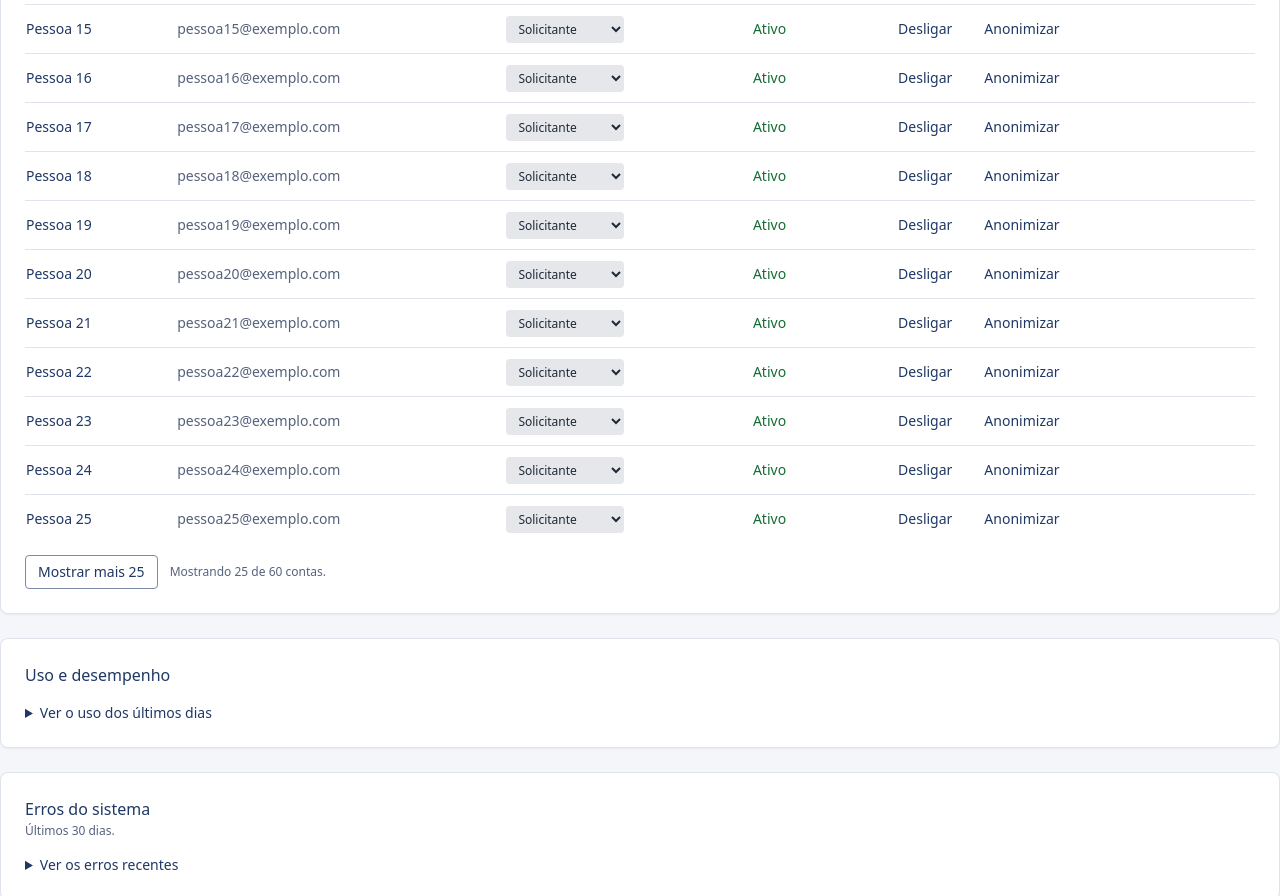
Lista longa de contas › desenha só as primeiras 25 e libera o resto sob demanda
(page scrolled)
Expected: the text "Mostrando 25 de 60 contas." is shown, [170,564,326,580]
Step 1. Click the button "Mostrar mais 25" → (91, 572), box [25,555,158,589]
(page scrolled)
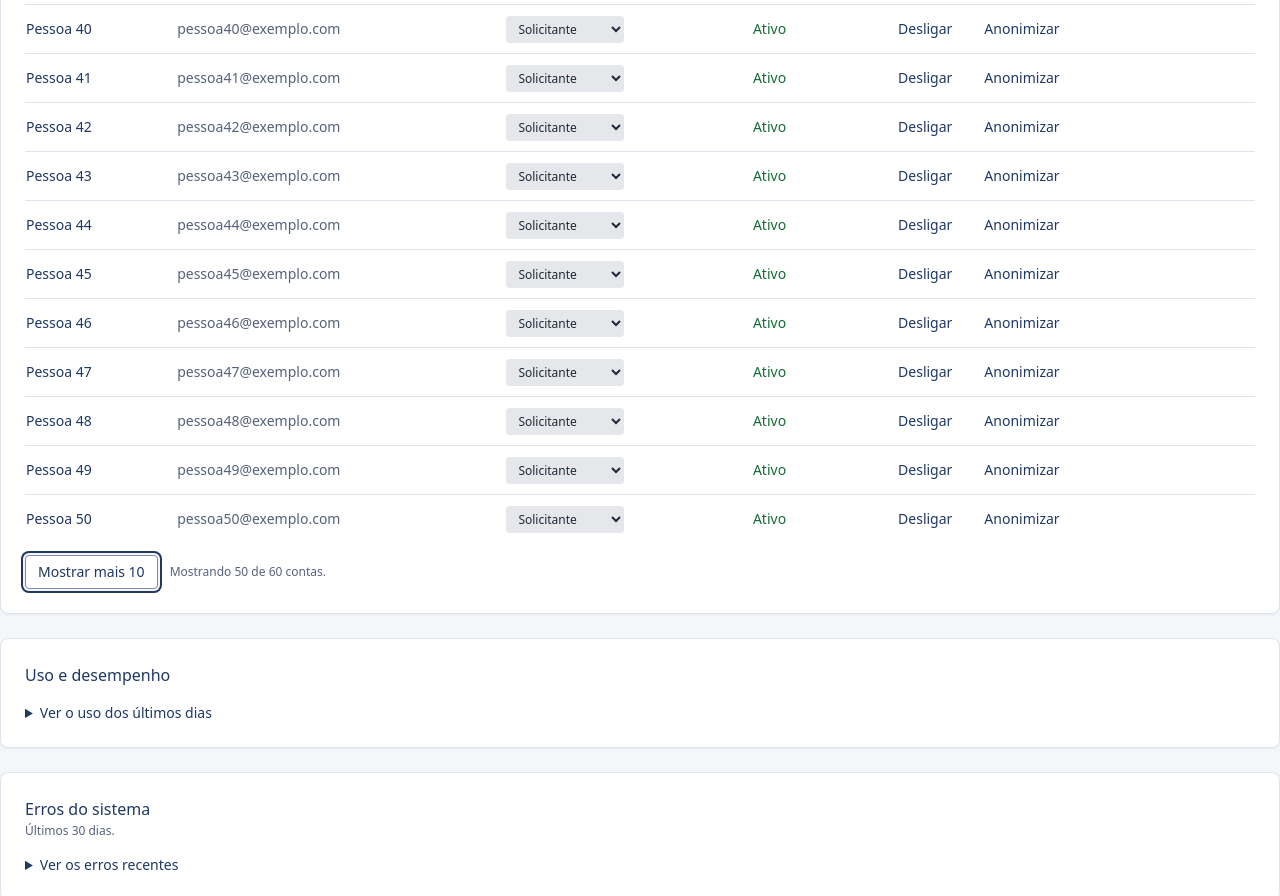
Step 2. Click the button "Mostrar mais 10" → (91, 572), box [25,555,158,589]
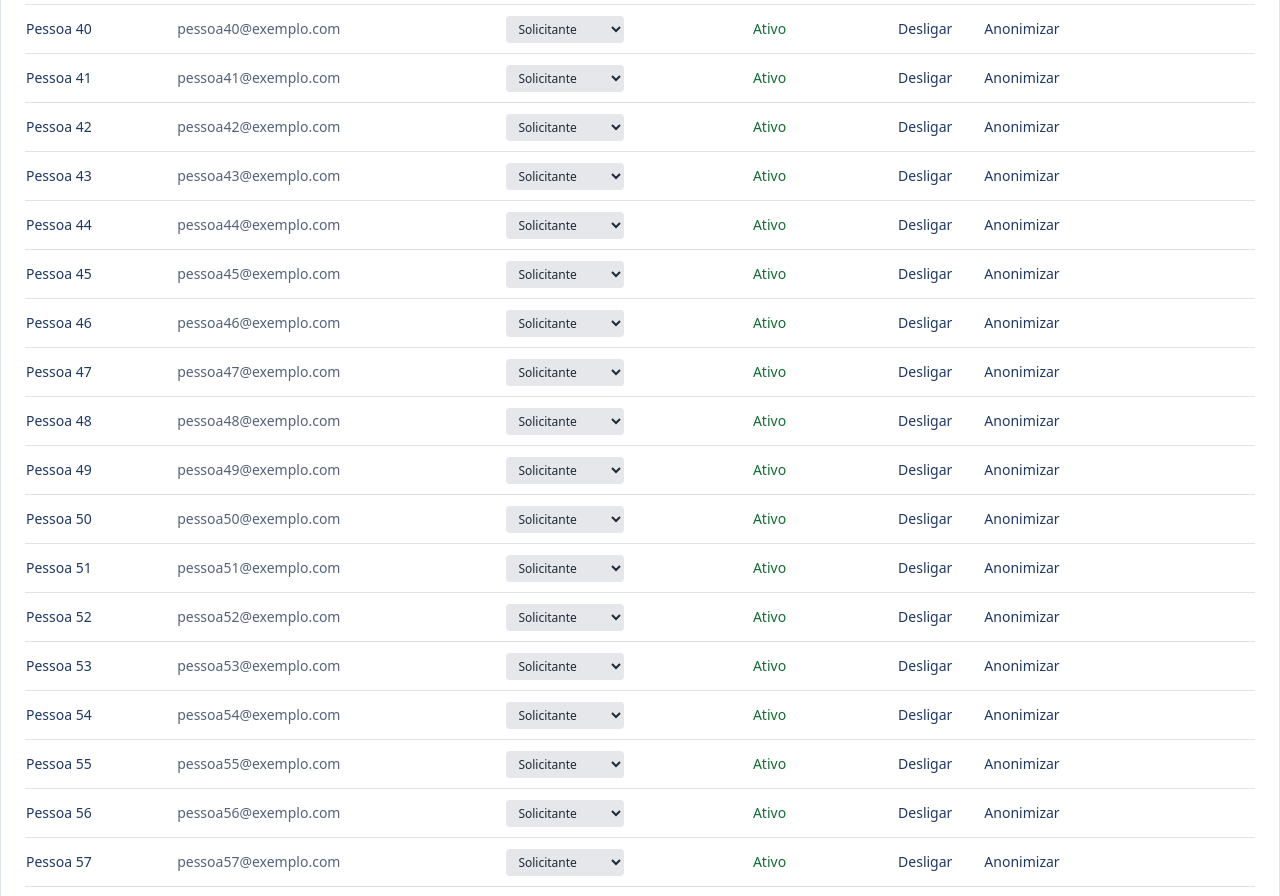
Now the button "Mostrar mais" is gone
